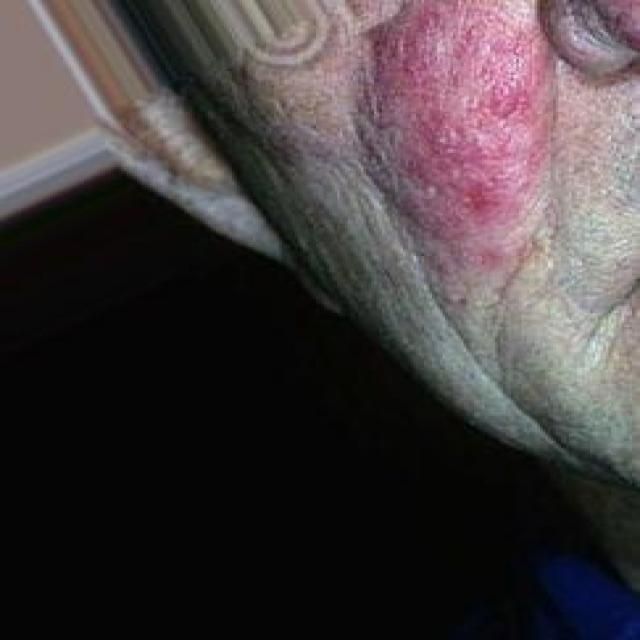Rosacea: (370, 0, 545, 234)
